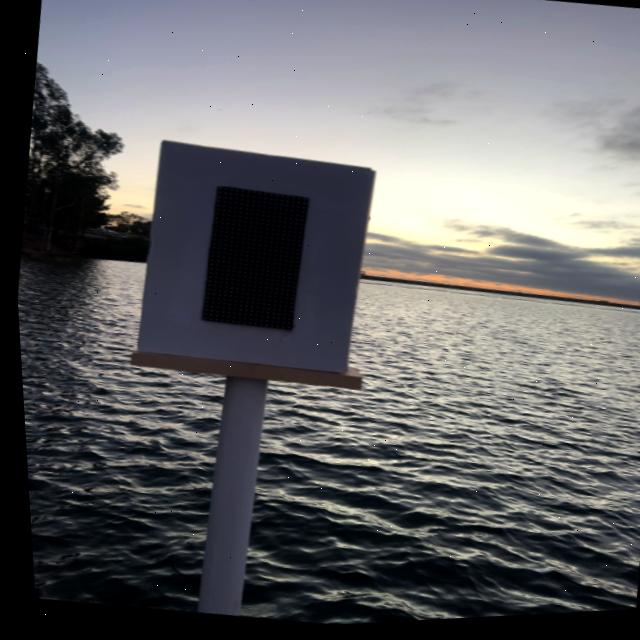led: (146, 145, 359, 386)
